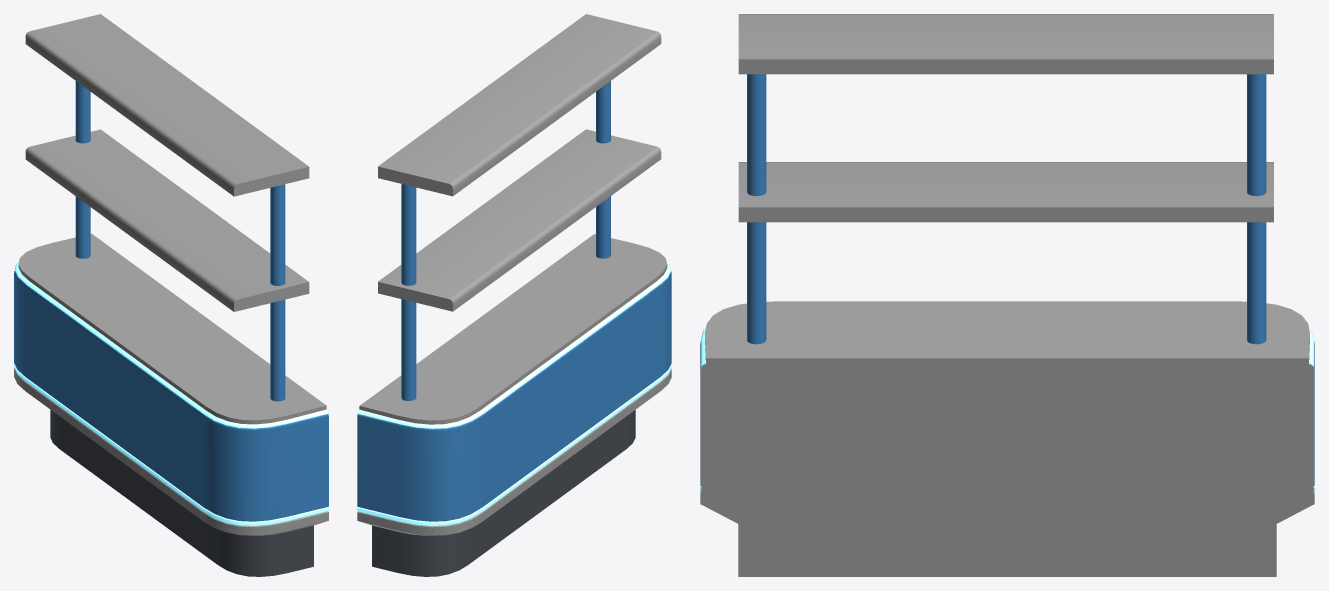
The model's file is ShelfA.fbx.
The picture shows the model from 3 angles, left to right: view 1: azimuth 30°, elevation 25°; view 2: azimuth 150°, elevation 25°; view 3: azimuth 270°, elevation 25°; orthographic projection. The views are drawn at different scales.
Visible parts, largest first — view 1: ShelfA; view 2: ShelfA; view 3: ShelfA.
Part boxes in pixels (box(x1,y1,x2,y2)): ShelfA: box(14, 14, 328, 576); ShelfA: box(357, 14, 671, 576); ShelfA: box(700, 14, 1314, 576).
Bounding box in the file's own units: 43.18 × 174 × 189.
